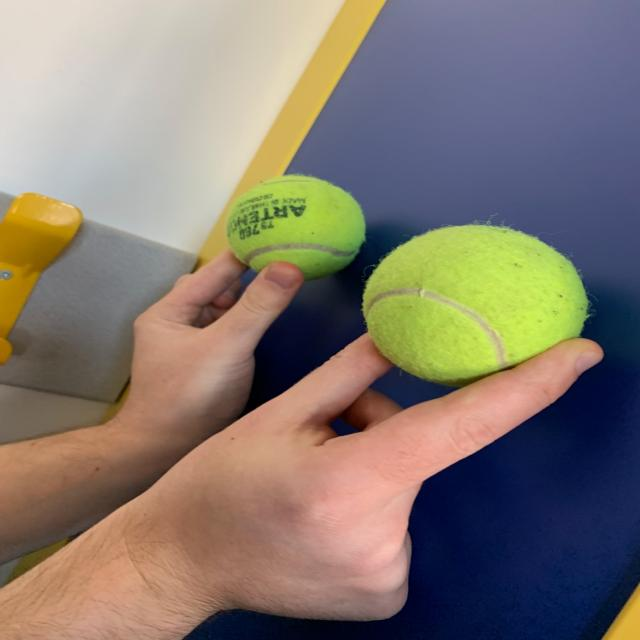Tennis-Ball: (362, 226, 598, 387), (215, 172, 370, 281)
